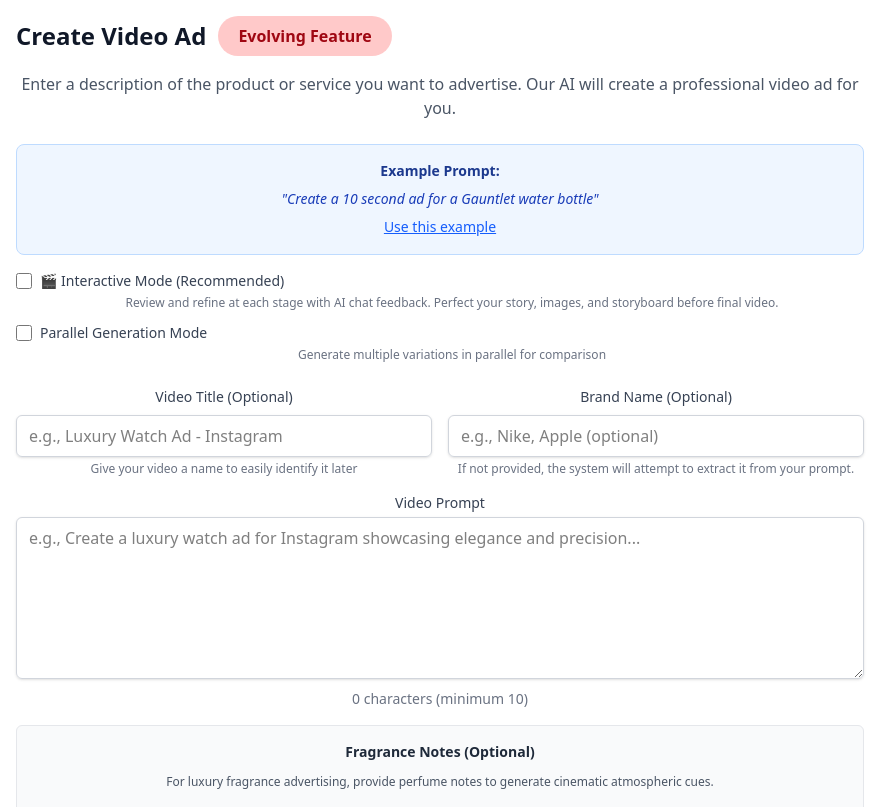
Test case: Dashboard Prompt Validation › should show character count helper text
The image size is (881, 807).
Replace the text in the text box labelled "Video Prompt" with "test prompt" at (440, 598), box [16,517,864,679]
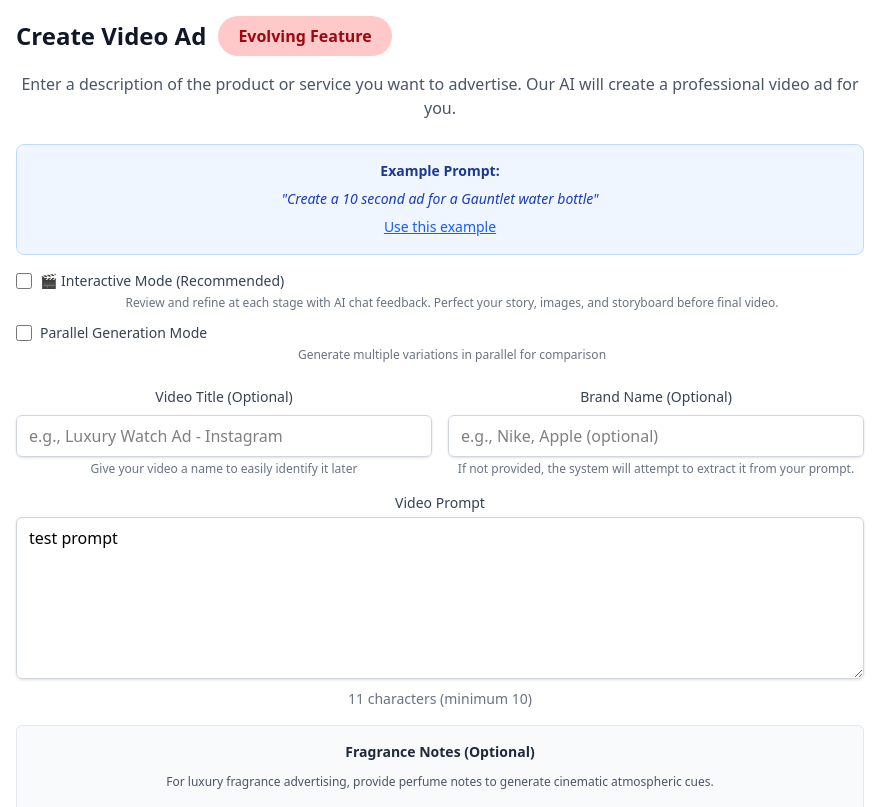
Result: the text "11 characters (minimum 10)" is shown at [348,689,532,708]
